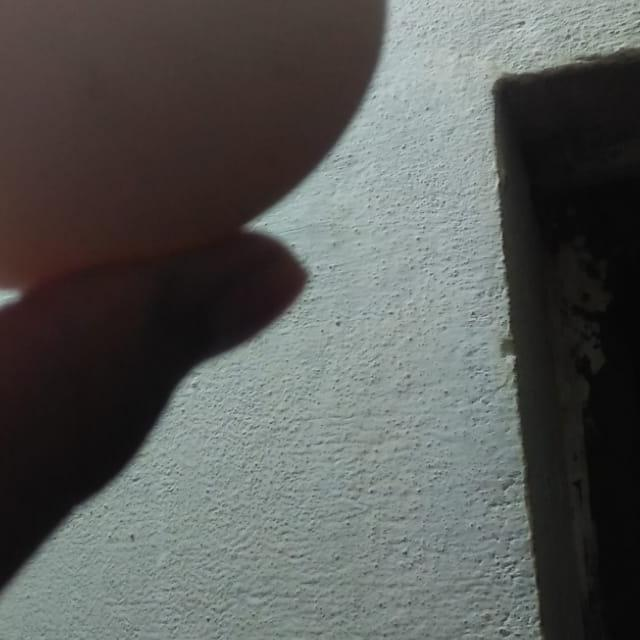egg: (0, 0, 441, 366)
